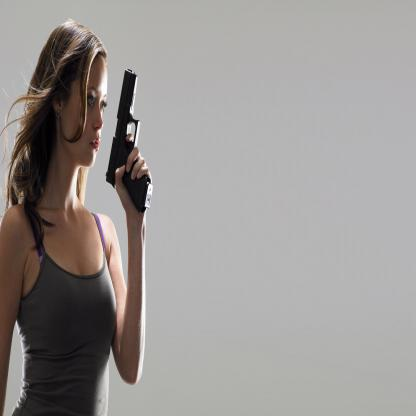pistol: (105, 67, 153, 215)
